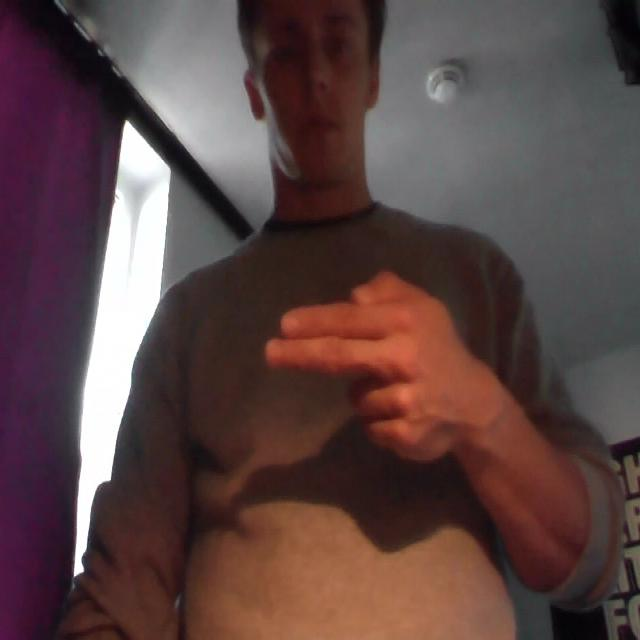left: (256, 245, 467, 473)
